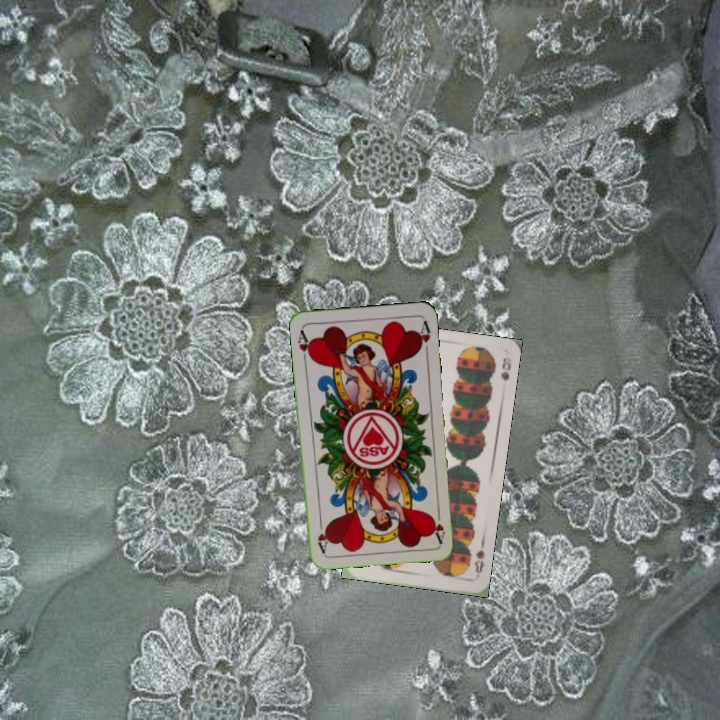HA: (293, 326, 315, 366), (428, 504, 448, 545)
S8: (470, 546, 487, 580)
